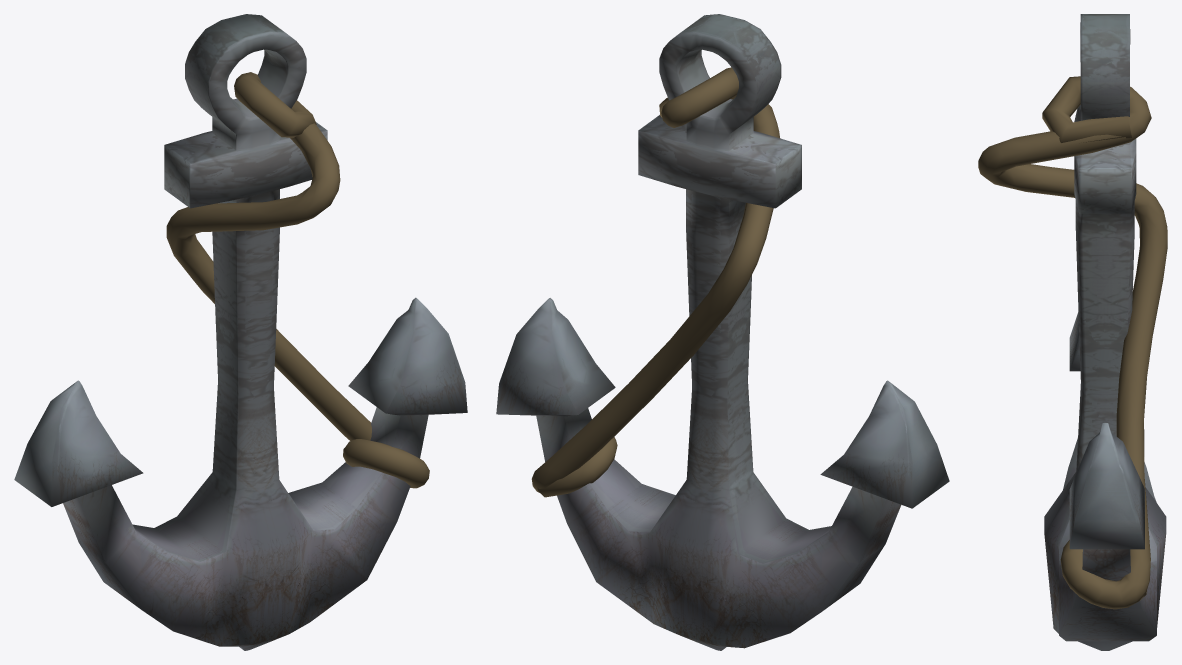
The model's file is Modular01_SignMayor.fbx.
3 views of the same model, side by side, from view 1: azimuth 30°, elevation 25°; view 2: azimuth 150°, elevation 25°; view 3: azimuth 270°, elevation 25° (orthographic).
Visible parts, largest first — view 1: MayorSign; view 2: MayorSign; view 3: MayorSign.
Part boxes in pixels (left/top/right/bottom): MayorSign: left=14, top=14, right=467, bottom=650; MayorSign: left=496, top=14, right=949, bottom=650; MayorSign: left=978, top=14, right=1167, bottom=650.
Bounding box in the file's own units: 124 × 177 × 48.47.
Materials: 2 (2 with a texture image).
